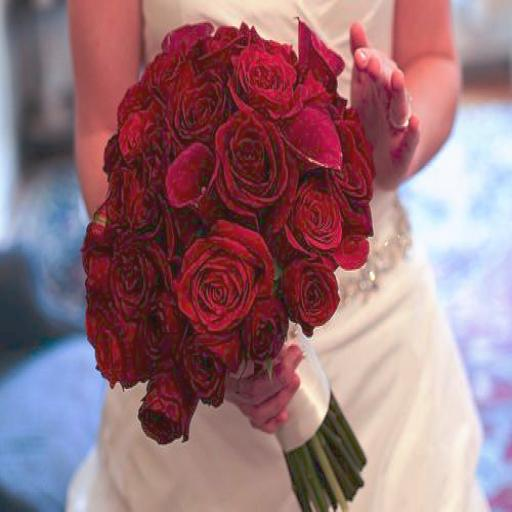rose: (175, 224, 277, 344), (215, 108, 290, 218), (228, 40, 296, 118), (283, 172, 344, 257), (107, 242, 166, 312), (284, 252, 338, 328), (166, 74, 225, 138)
